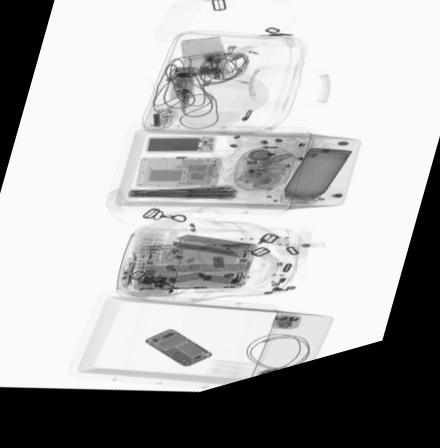Powerbank: (143, 143, 217, 165)
